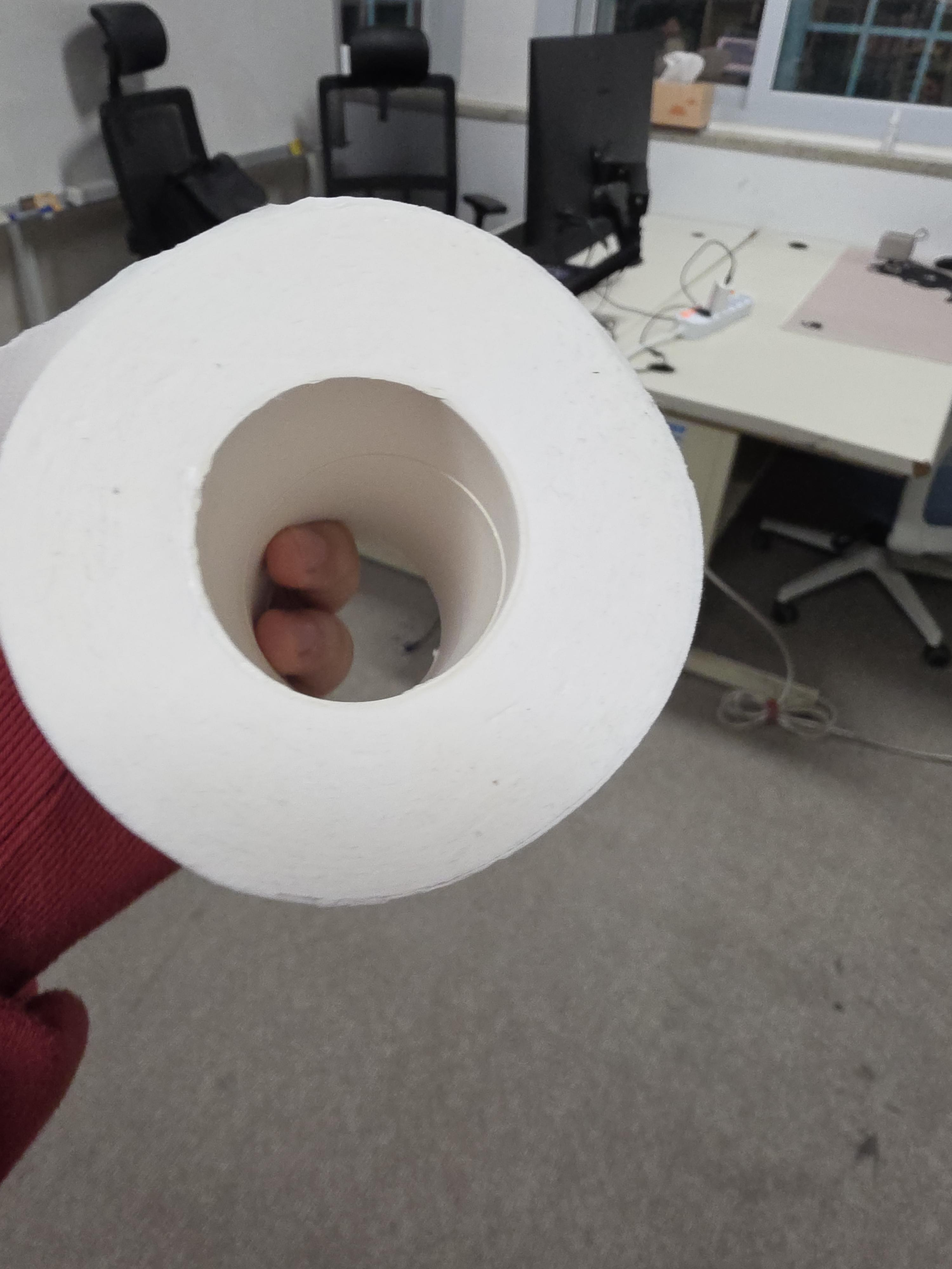tissue: (0, 196, 705, 908), (651, 51, 717, 129)
